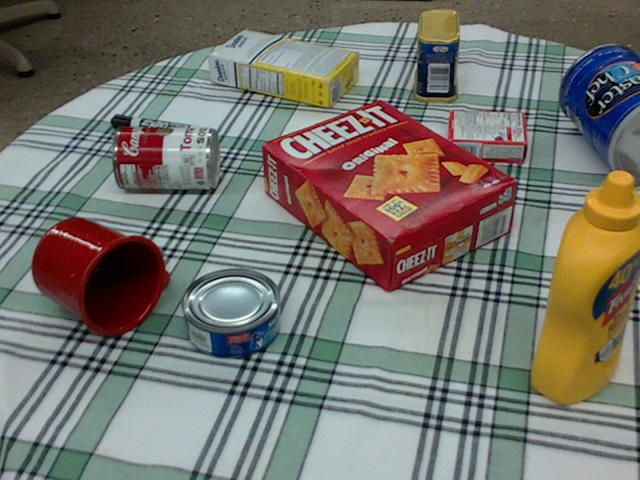cracker_box: (263, 98, 516, 289)
gelatin_box: (446, 108, 526, 160)
large_marker: (109, 114, 205, 140)
master_chef_can: (556, 45, 639, 184)
mug: (30, 217, 166, 335)
mustard_bottle: (531, 168, 639, 402)
potted_meat_can: (413, 8, 459, 102)
sugar_box: (208, 29, 360, 106)
tomato_soup_can: (111, 125, 219, 188)
tuna_fish_can: (179, 268, 279, 358)
